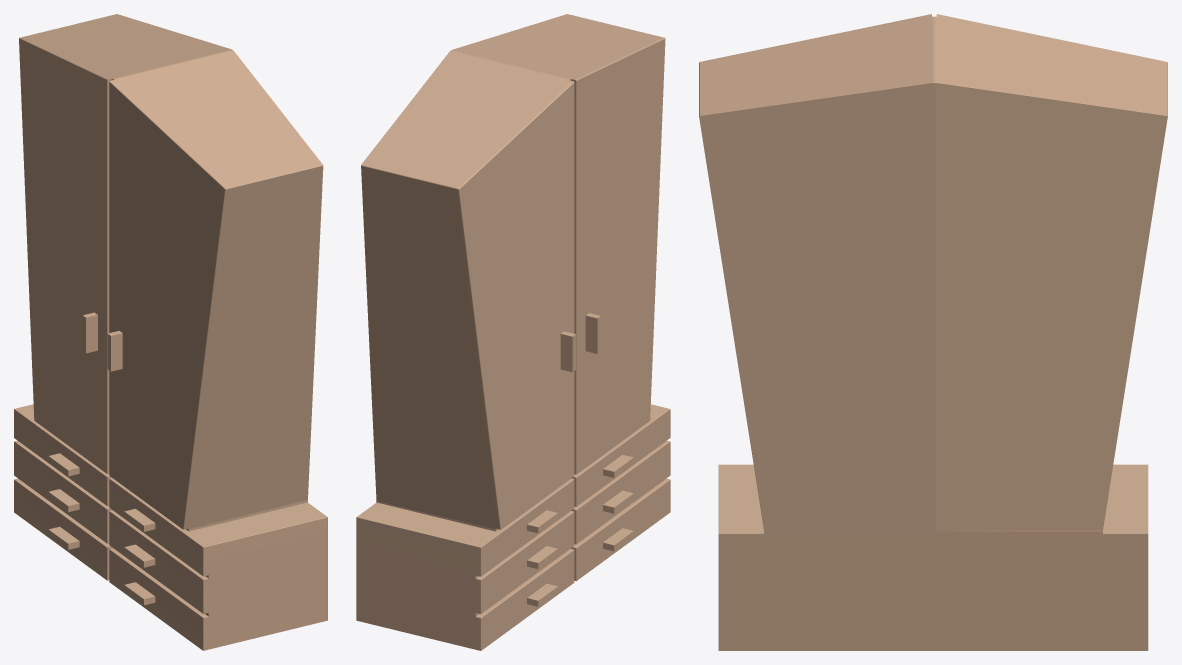
File: kast_nieuwestijl.fbx
3 renders of one model, left to right at view 1: azimuth 30°, elevation 25°; view 2: azimuth 150°, elevation 25°; view 3: azimuth 270°, elevation 25°, orthographic. The views are drawn at different scales.
Parts seen in each view (by area): view 1: pCube107; view 2: pCube107; view 3: pCube107.
Boxes of the visible parts, x1,y1,x2,y2 form: pCube107: (14, 14, 327, 650); pCube107: (356, 14, 670, 650); pCube107: (699, 14, 1167, 650).
Bounding box in the file's own units: 1.17 × 4.13 × 3.09.
